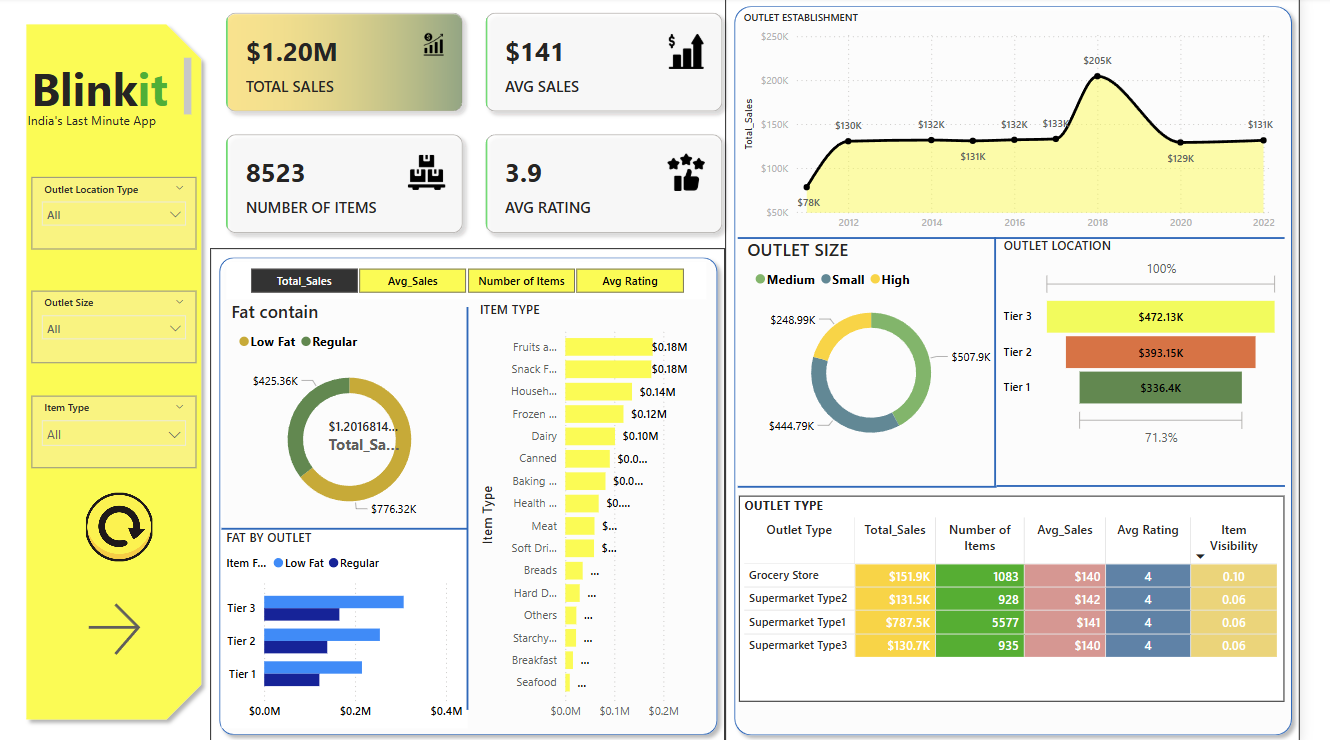

The dashboard page shown, as its layout file describes it:
{"tool":"powerbi","page":{"name":"Page 1","canvas":[1400,800],"ordinal":0},"visuals":[{"type":"shape","box":[26,20,206,764],"z":0},{"type":"textbox","box":[35.1,59.9,181.9,72.3],"z":1000},{"type":"textbox","box":[31,117.8,190.2,31],"z":2000},{"type":"cardVisual","fields":{"Data":["BlinkIT Grocery Data.Total_Sales","BlinkIT Grocery Data.Avg_Sales","BlinkIT Grocery Data.Number of Items","BlinkIT Grocery Data.Avg Rating"]},"box":[232,0,566,270],"z":3000},{"type":"shape","box":[232,270,552,530],"z":4000},{"type":"donutChart","title":"Fat contain","fields":{"Y":["BlinkIT Grocery Data.Total_Sales"],"Category":["BlinkIT Grocery Data.Item Fat Content"]},"box":[250,324,264,246],"z":5000},{"type":"slicer","fields":{"Values":["Metrics.Metrics"]},"box":[250,284,514,40],"z":6000},{"type":"cardVisual","fields":{"Data":["BlinkIT Grocery Data.Total_Sales"]},"box":[342,434,114,70],"z":7000},{"type":"clusteredBarChart","title":"FAT BY OUTLET","fields":{"Y":["BlinkIT Grocery Data.Total_Sales"],"Category":["BlinkIT Grocery Data.Outlet Location Type"],"Series":["BlinkIT Grocery Data.Item Fat Content"]},"box":[244,570,264,214],"z":8000},{"type":"shape","box":[244,548,264,44],"z":9000},{"type":"shape","box":[456,332,104,432],"z":10000},{"type":"barChart","title":"ITEM TYPE","fields":{"Y":["BlinkIT Grocery Data.Total_Sales"],"Category":["BlinkIT Grocery Data.Item Type"]},"box":[516,326,250,458],"z":11000},{"type":"shape","box":[784,0,616,800],"z":12000},{"type":"lineChart","title":"OUTLET ESTABLISHMENT","fields":{"Category":["BlinkIT Grocery Data.Outlet Establishment Year"],"Y":["BlinkIT Grocery Data.Total_Sales"]},"box":[798.8,14.1,579.7,243.9],"z":13000},{"type":"shape","box":[797.1,236.8,586.8,42.4],"z":14000},{"type":"donutChart","title":"OUTLET SIZE","fields":{"Y":["BlinkIT Grocery Data.Total_Sales"],"Category":["BlinkIT Grocery Data.Outlet Size"]},"box":[802.4,258,275.7,236.8],"z":15000},{"type":"shape","box":[1021.5,258,104.3,266.9],"z":16000},{"type":"shape","box":[797.1,507.2,277.5,37.1],"z":17000},{"type":"funnel","title":"OUTLET LOCATION","fields":{"Category":["BlinkIT Grocery Data.Outlet Location Type"],"Y":["BlinkIT Grocery Data.Total_Sales"]},"box":[1078.1,258,305.8,229.8],"z":18000},{"type":"shape","box":[1074.5,507.2,309.3,35.3],"z":19000},{"type":"pivotTable","title":"OUTLET TYPE","fields":{"Rows":["BlinkIT Grocery Data.Outlet Type"],"Values":["BlinkIT Grocery Data.Total_Sales","BlinkIT Grocery Data.Number of Items","BlinkIT Grocery Data.Avg_Sales","BlinkIT Grocery Data.Avg Rating","Avg(BlinkIT Grocery Data.Item Visibility)"]},"box":[798.8,535.5,585,220.9],"z":20000},{"type":"slicer","fields":{"Values":["BlinkIT Grocery Data.Outlet Location Type"]},"box":[40.6,192.6,176.7,77.8],"z":21000},{"type":"slicer","fields":{"Values":["BlinkIT Grocery Data.Outlet Size"]},"box":[40.6,314.6,176.7,77.8],"z":22000},{"type":"slicer","fields":{"Values":["BlinkIT Grocery Data.Item Type"]},"box":[40.6,427.7,176.7,77.8],"z":23000},{"type":"image","box":[93.7,526.7,81.3,83.1],"z":24000},{"type":"actionButton","box":[93.7,643.3,97.2,68.9],"z":25000}]}

Visuals, with their boxes in screenshot pixels (x1, y1, x2, y2), scaled from the page's 1400x800 canvas onto the 1330x740 screenshot:
shape: box=[25, 18, 220, 725]
textbox: box=[33, 55, 206, 122]
textbox: box=[29, 109, 210, 138]
cardVisual - BlinkIT Grocery Data.Total_Sales x BlinkIT Grocery Data.Avg_Sales: box=[220, 0, 758, 250]
shape: box=[220, 250, 745, 739]
"Fat contain" donutChart: box=[238, 300, 488, 527]
slicer - Metrics.Metrics: box=[238, 263, 726, 300]
cardVisual - BlinkIT Grocery Data.Total_Sales: box=[325, 401, 433, 466]
"FAT BY OUTLET" clusteredBarChart: box=[232, 527, 483, 725]
shape: box=[232, 507, 483, 548]
shape: box=[433, 307, 532, 707]
"ITEM TYPE" barChart: box=[490, 302, 728, 725]
shape: box=[745, 0, 1329, 739]
"OUTLET ESTABLISHMENT" lineChart: box=[759, 13, 1310, 239]
shape: box=[757, 219, 1315, 258]
"OUTLET SIZE" donutChart: box=[762, 239, 1024, 458]
shape: box=[970, 239, 1070, 486]
shape: box=[757, 469, 1021, 503]
"OUTLET LOCATION" funnel: box=[1024, 239, 1315, 451]
shape: box=[1021, 469, 1315, 502]
"OUTLET TYPE" pivotTable: box=[759, 495, 1315, 700]
slicer - BlinkIT Grocery Data.Outlet Location Type: box=[39, 178, 206, 250]
slicer - BlinkIT Grocery Data.Outlet Size: box=[39, 291, 206, 363]
slicer - BlinkIT Grocery Data.Item Type: box=[39, 396, 206, 468]
image: box=[89, 487, 166, 564]
actionButton: box=[89, 595, 181, 659]
